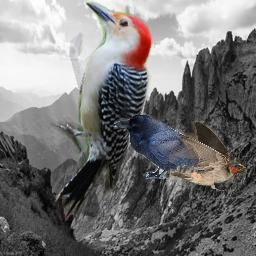Crow: (113, 114, 199, 179)
Swallow: (169, 121, 246, 191)
Woodpecker: (50, 0, 153, 220)
